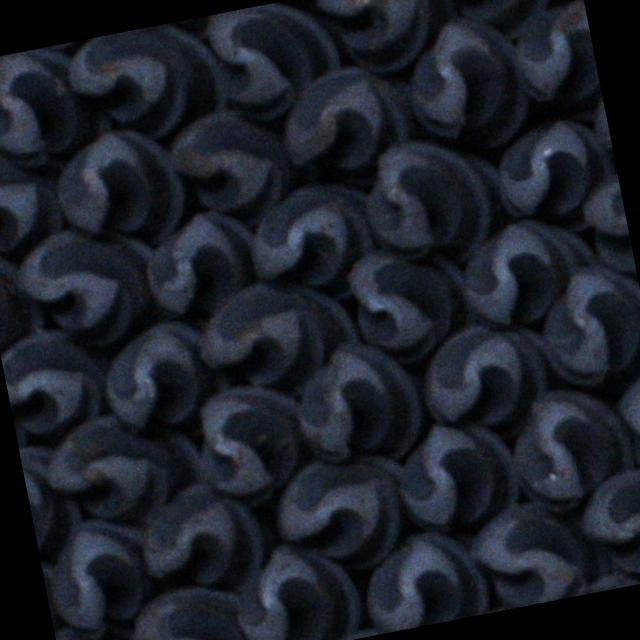tool_b: (192, 267, 362, 411), (62, 15, 234, 152), (41, 400, 208, 538), (12, 214, 171, 355), (358, 129, 511, 274), (267, 443, 420, 581), (241, 174, 388, 314), (398, 10, 536, 158), (287, 333, 429, 475), (46, 120, 192, 258), (414, 314, 559, 451), (500, 378, 638, 520), (462, 486, 614, 614), (164, 99, 300, 237), (341, 234, 479, 369), (452, 211, 604, 332), (186, 376, 320, 512), (390, 412, 528, 544), (204, 0, 347, 126), (275, 55, 420, 178), (489, 111, 621, 243), (97, 314, 232, 438), (132, 474, 268, 596), (0, 38, 116, 173), (40, 513, 163, 640), (530, 257, 640, 399), (354, 524, 492, 636), (224, 531, 364, 640), (137, 205, 263, 318), (506, 0, 606, 129), (315, 0, 466, 85), (0, 323, 114, 434), (571, 460, 640, 593), (0, 142, 69, 258), (124, 583, 251, 640), (433, 0, 558, 29), (54, 613, 151, 640)
